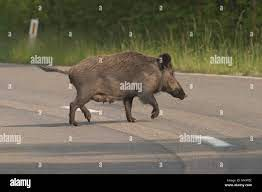boar: (37, 52, 186, 124)
